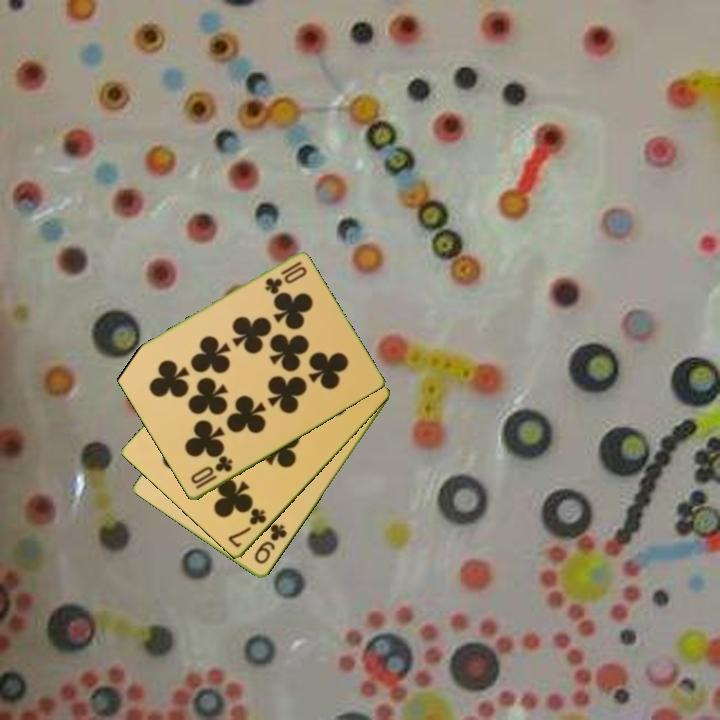10c: (187, 453, 235, 493), (261, 258, 310, 296)
7c: (224, 505, 270, 551)
9c: (251, 521, 290, 568)
